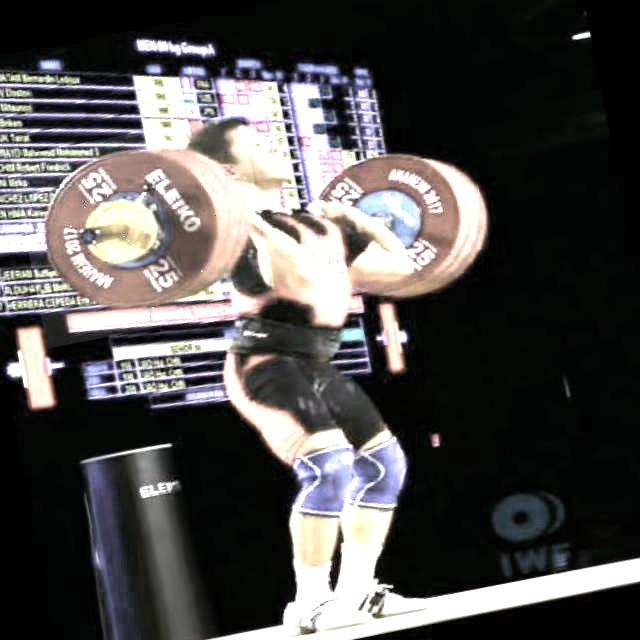barbell: (11, 113, 278, 350)
